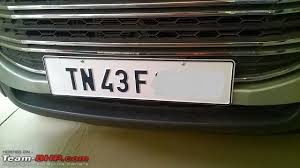T: (63, 65, 81, 92)
